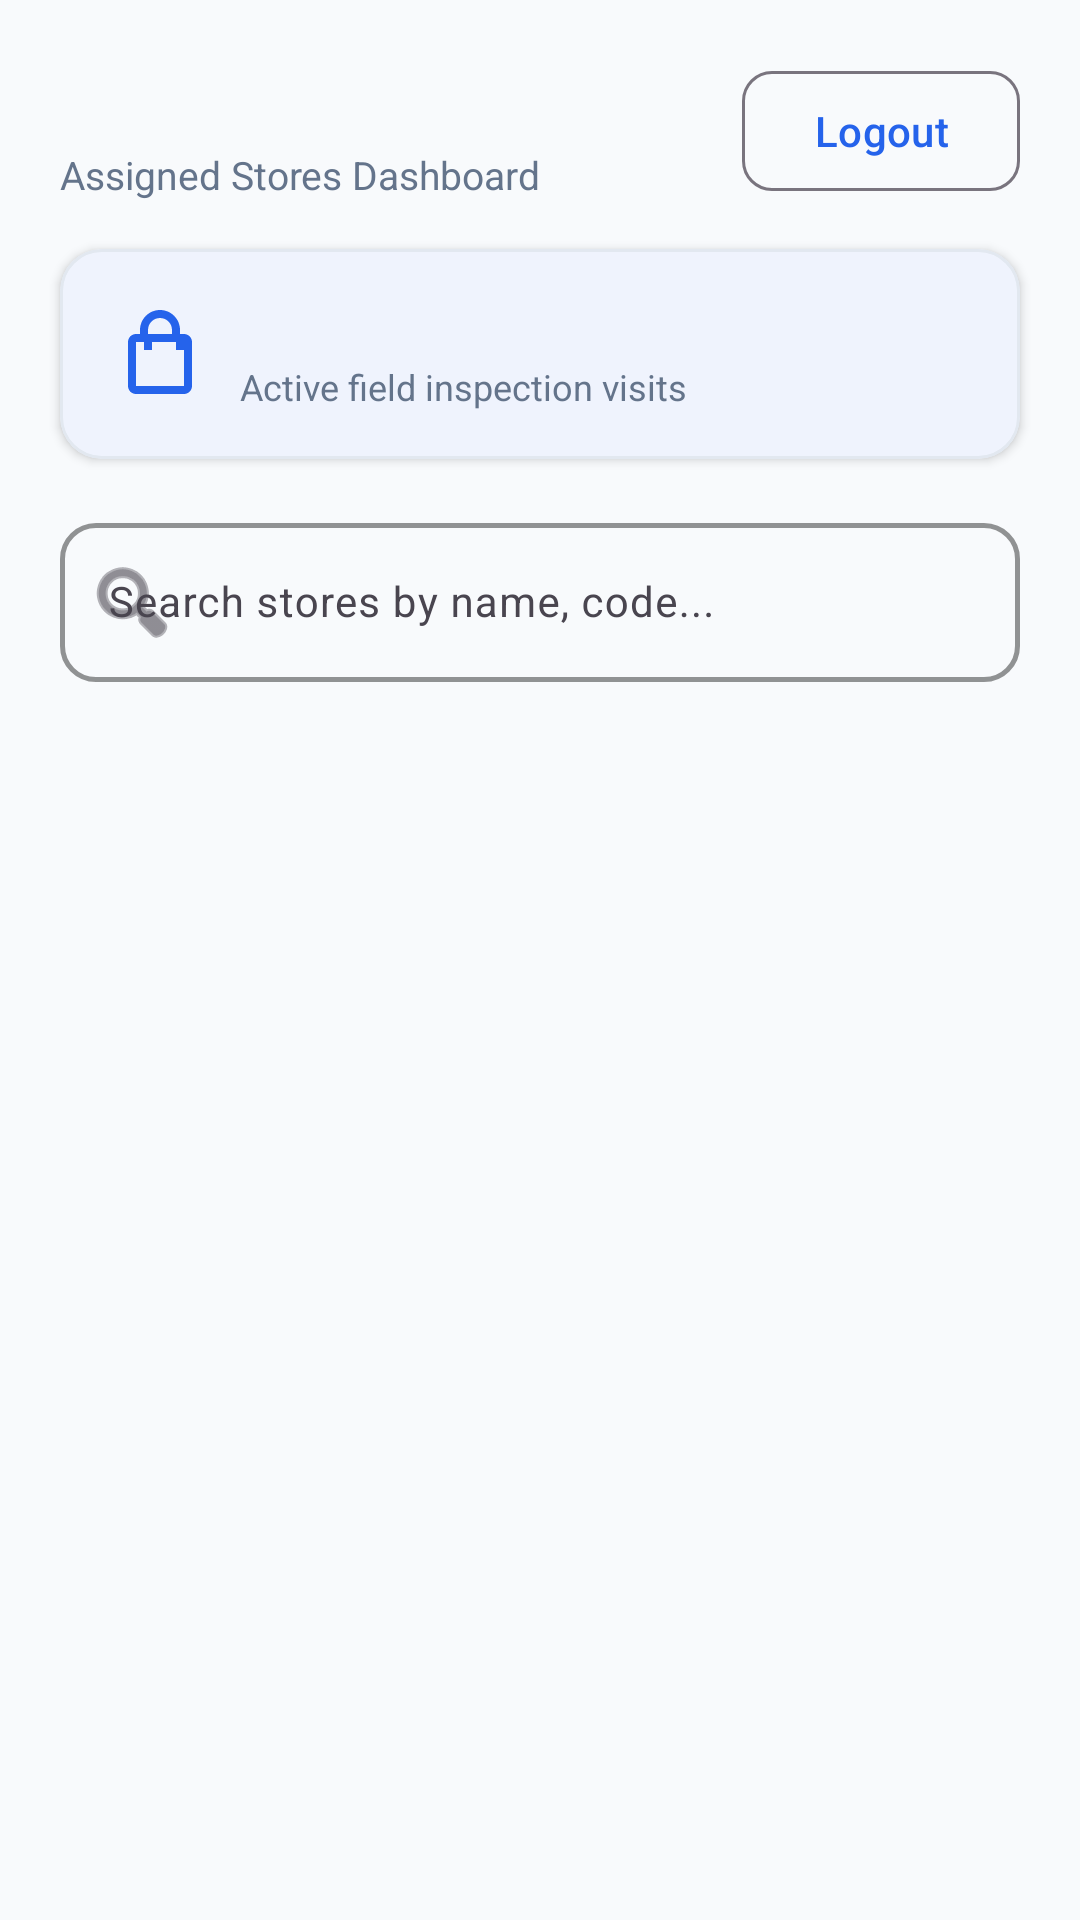

Icon bounding boxes for this 1080px×1920px phone screenshot, format (x1, y1, x2, y2):
Store Icon: (128, 310, 192, 394)
